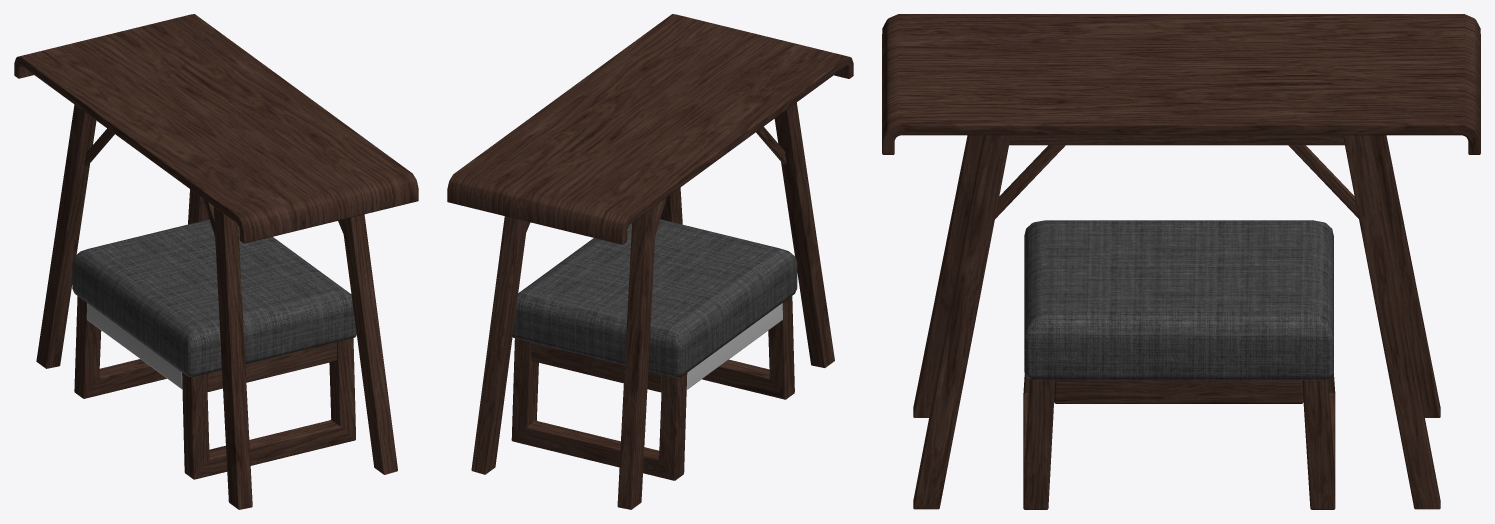
3 views of the same model, side by side, from view 1: azimuth 30°, elevation 25°; view 2: azimuth 150°, elevation 25°; view 3: azimuth 270°, elevation 25° (orthographic). The views are drawn at different scales.
Visible parts, largest first — view 1: table, chair; view 2: table, chair; view 3: table, chair.
Boxes of the visible parts, box(x1,y1,x2,y2) form: table: box(14, 14, 418, 509); chair: box(72, 219, 356, 479); table: box(447, 14, 853, 509); chair: box(511, 219, 797, 480); table: box(882, 14, 1480, 509); chair: box(1023, 220, 1335, 509).
Size of the model in its own units: 1.45 by 2.37 by 3.29.
2 materials, 2 textured.
